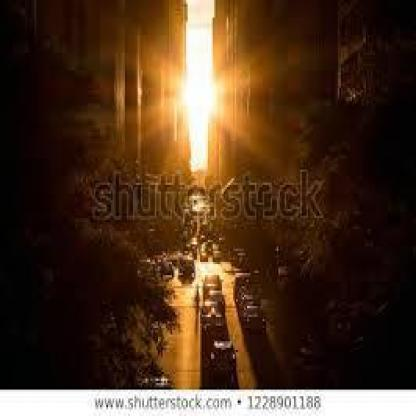other: (159, 26, 246, 156)
